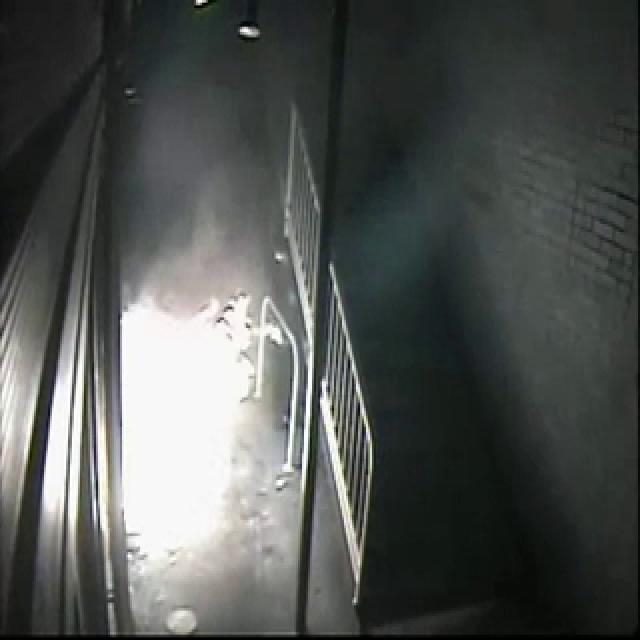arson: (89, 87, 388, 640)
